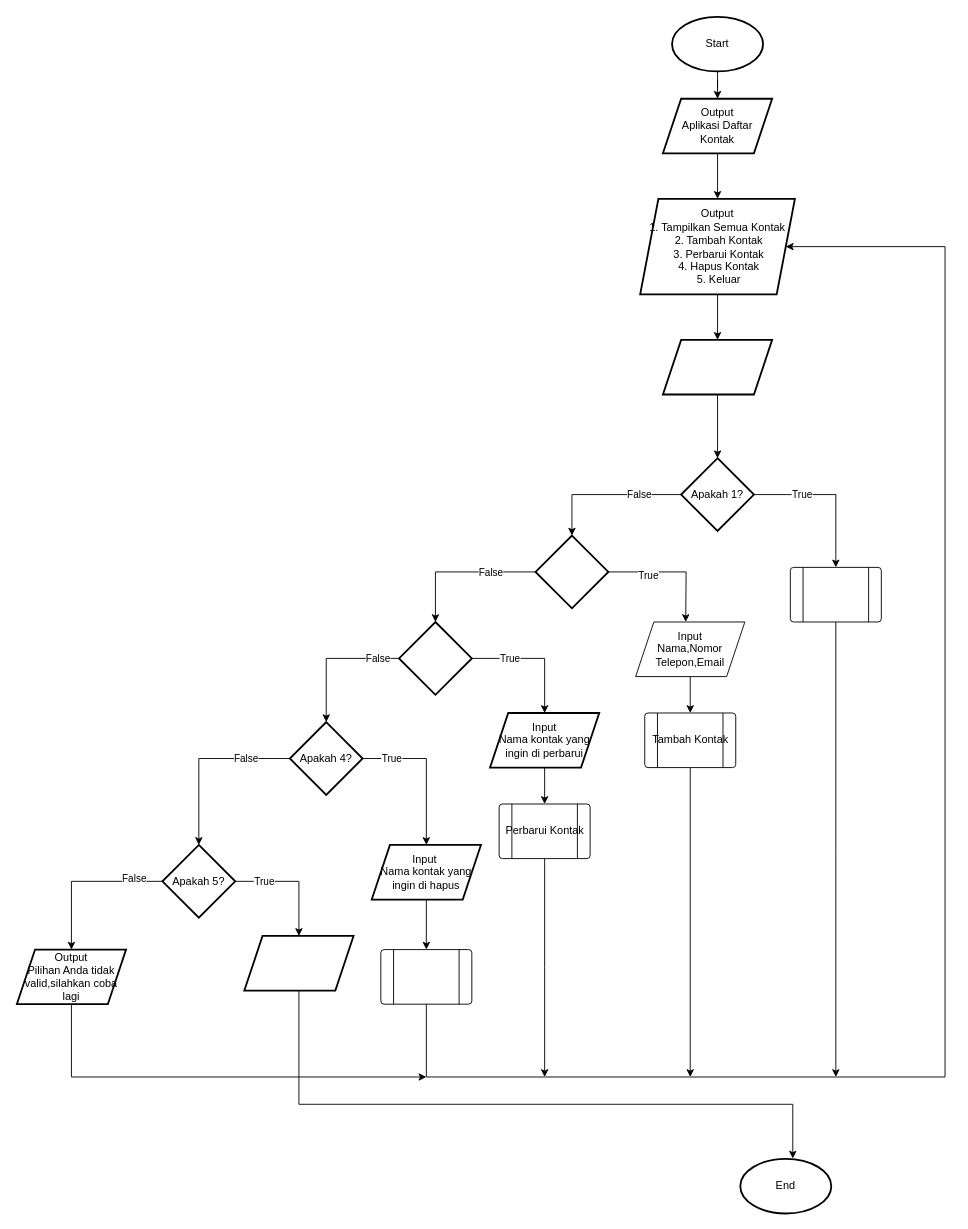
Some shapes in this 968 by 1229 pixel diagram are drawn without their labels. The box of each missing label's shape, as (x1, y1, x2, y2) in pixels:
Apakah 2?: (534, 534, 609, 609)
Apakah 3?: (398, 621, 472, 695)
Hapus Kontak: (380, 949, 472, 1004)
Input Pilihan: (662, 339, 773, 395)
Output Keluar dari program: (243, 935, 354, 991)
Tampilkan Kontak: (789, 566, 881, 622)
